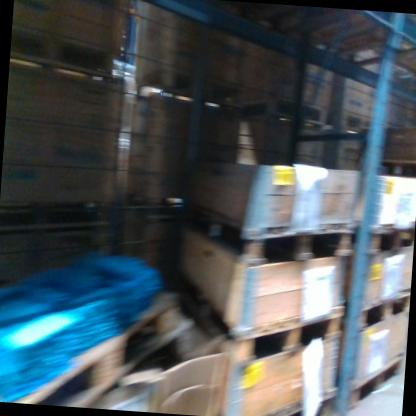pallet: (20, 281, 182, 414), (178, 291, 346, 373), (183, 210, 356, 277), (9, 27, 121, 82), (0, 193, 114, 242), (132, 77, 239, 114), (347, 349, 406, 411), (242, 93, 330, 127), (259, 382, 339, 416), (359, 283, 411, 335), (367, 218, 415, 258), (380, 158, 416, 179), (339, 111, 371, 132)
